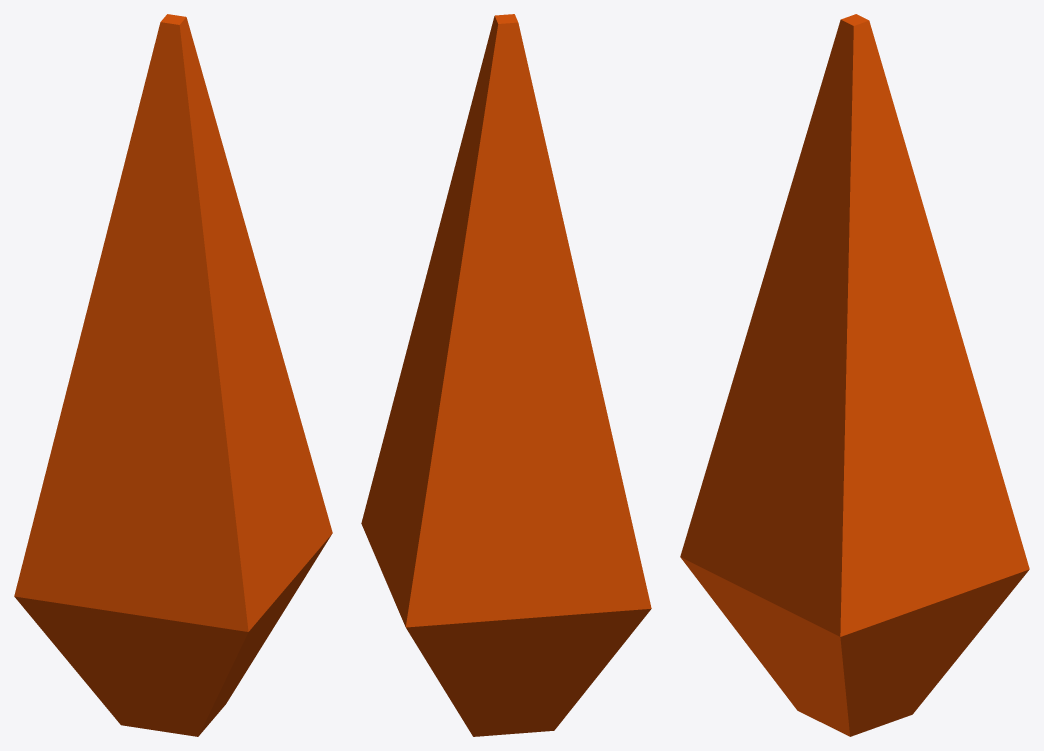
The model's file is tree-autumn-leaves-027.glb.
3 views of the same model, side by side, from view 1: azimuth 30°, elevation 25°; view 2: azimuth 150°, elevation 25°; view 3: azimuth 270°, elevation 25° (orthographic).
Parts seen in each view (by area): view 1: Plane.046_359; view 2: Plane.046_359; view 3: Plane.046_359.
Part boxes in pixels (box(x1,y1,x2,y2)): Plane.046_359: box(14, 14, 332, 736); Plane.046_359: box(361, 14, 651, 736); Plane.046_359: box(680, 14, 1029, 736).
Size of the model in its own units: 0.6307 by 1.38 by 0.6307.
